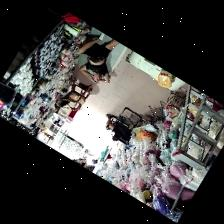person: (79, 33, 118, 82), (106, 114, 115, 129)
